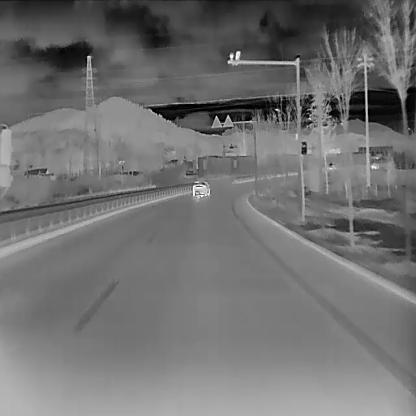car: (191, 179, 210, 196)
